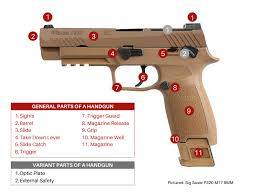gun: (36, 22, 218, 169)
